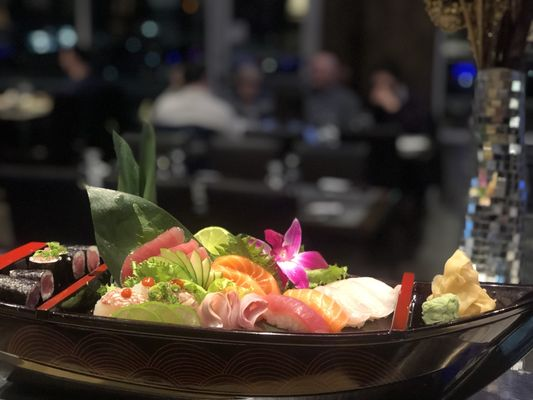soup: (320, 277, 398, 330)
